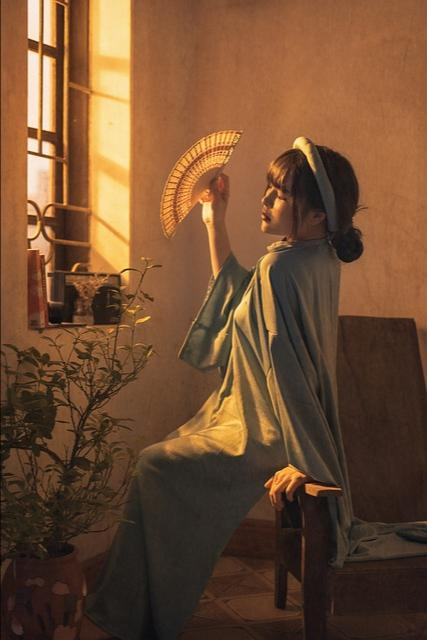Non_Gorille: (20, 91, 427, 594)
